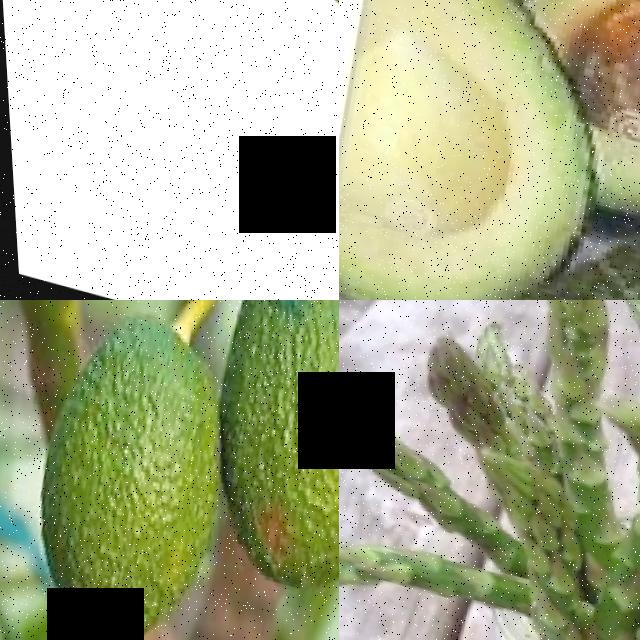asparagus: (420, 300, 559, 566), (531, 300, 640, 523), (587, 351, 640, 640)
avocado: (339, 0, 640, 300), (0, 300, 253, 640), (181, 300, 339, 605), (468, 141, 640, 300), (540, 0, 640, 268)
banana: (0, 0, 339, 300)
